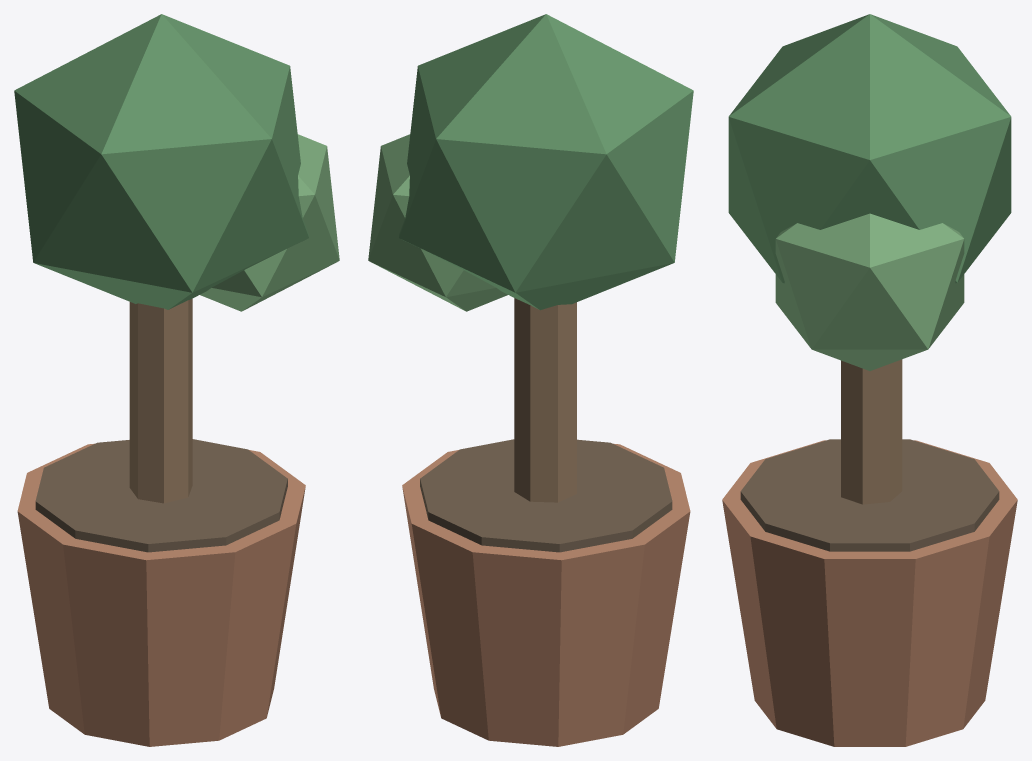
Rendered from pla_ficus_sala.glb.
3 views of the same model, side by side, from view 1: azimuth 30°, elevation 25°; view 2: azimuth 150°, elevation 25°; view 3: azimuth 270°, elevation 25° (orthographic).
Visible parts, largest first — view 1: PLA_FICUS_SALA_v01; view 2: PLA_FICUS_SALA_v01; view 3: PLA_FICUS_SALA_v01.
Part boxes in pixels (x1=…): PLA_FICUS_SALA_v01: x1=14, y1=14, x2=339, y2=746; PLA_FICUS_SALA_v01: x1=368, y1=14, x2=693, y2=746; PLA_FICUS_SALA_v01: x1=722, y1=14, x2=1017, y2=746.
Bounding box in the file's own units: 0.3683 × 0.82 × 0.32.
